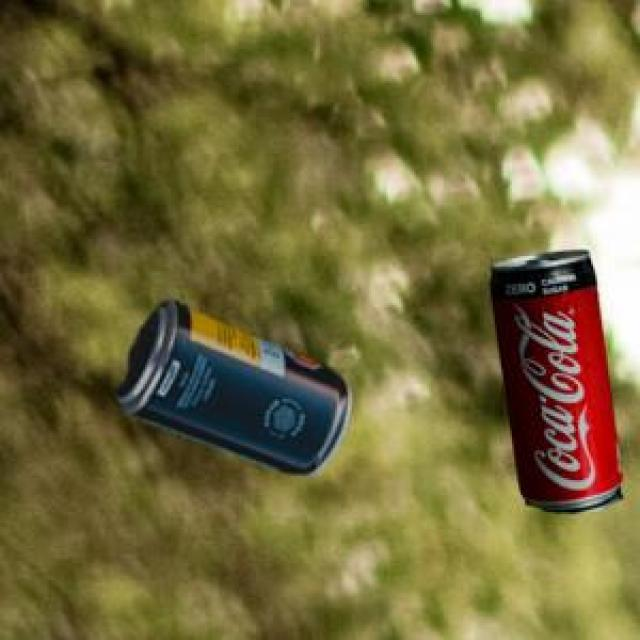Can: (114, 298, 349, 473), (487, 249, 620, 511)
